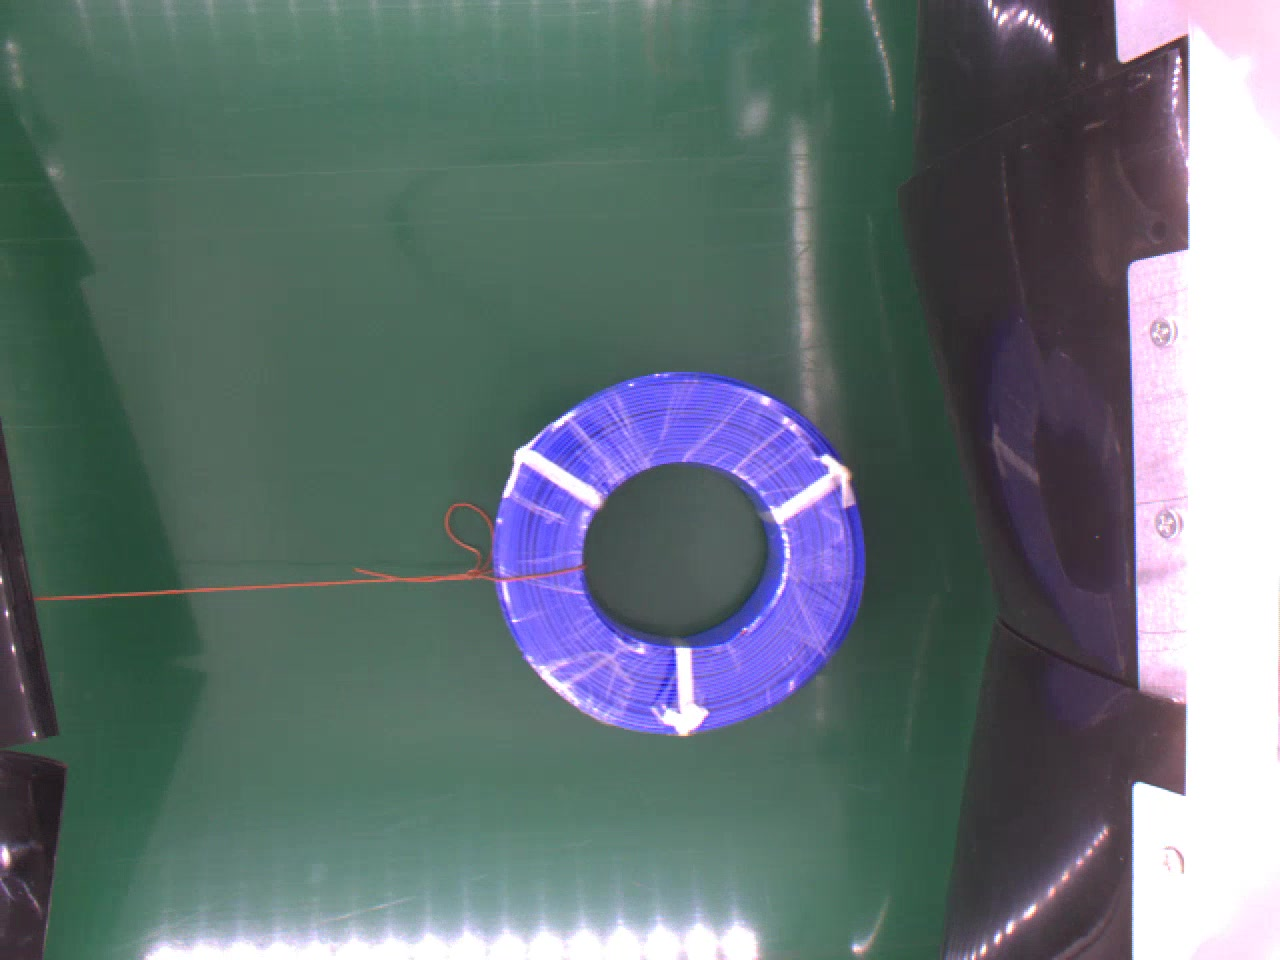blue: (489, 367, 866, 736)
